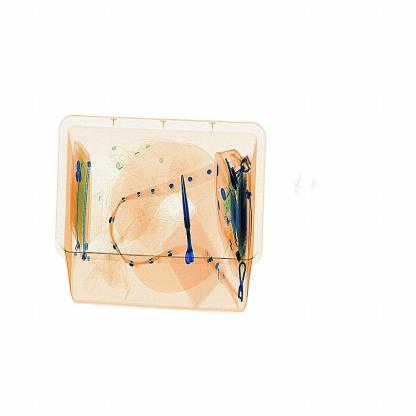gun: (168, 166, 209, 274)
